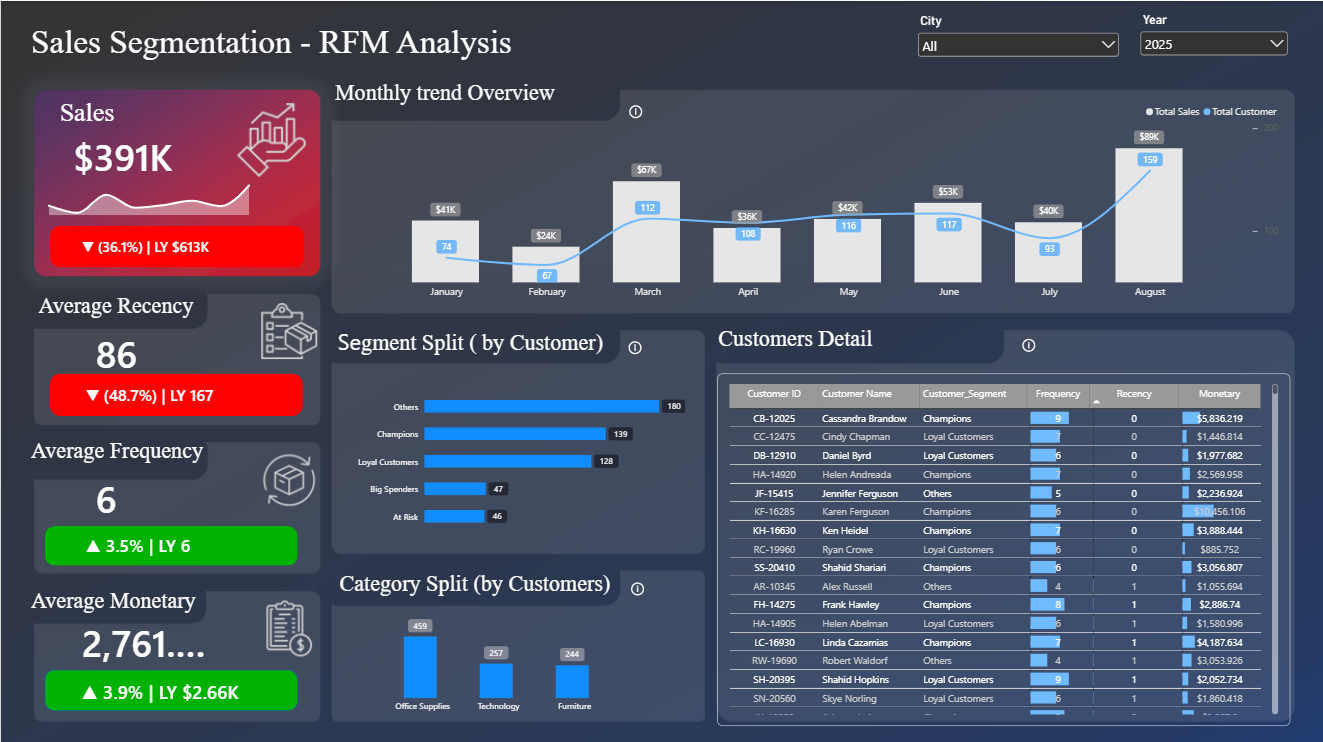

The dashboard page shown, as its layout file describes it:
{"tool":"powerbi","page":{"name":"Page 1","canvas":[1920,1080],"ordinal":0},"visuals":[{"type":"shape","box":[63.8,967.4,366.4,59.7],"z":0},{"type":"shape","box":[63.8,759.5,366.4,57.6],"z":1000},{"type":"shape","box":[70,539.3,366.4,61.7],"z":2000},{"type":"shape","box":[70,325.2,368.4,59.7],"z":3000},{"type":"textbox","box":[43.2,32.9,901.5,61.7],"z":4000},{"type":"cardVisual","fields":{"Data":["Tbl_Measure.Total Sales"]},"box":[88.5,164.7,265.5,117.3],"z":5000},{"type":"textbox","box":[84.4,140,113.2,49.4],"z":6000},{"type":"textbox","box":[53.5,422,255.2,57.6],"z":7000},{"type":"textbox","box":[43.2,631.9,265.5,61.7],"z":8000},{"type":"textbox","box":[43.2,848,255.2,63.8],"z":9000},{"type":"cardVisual","fields":{"Data":["Tbl_Measure.YoY SalesVariance"]},"box":[100.9,325.2,224.4,59.7],"z":10000},{"type":"slicer","fields":{"Values":["DateTable.Year"]},"box":[1644.6,16.5,222.3,78.2],"z":11000},{"type":"cardVisual","fields":{"Data":["Tbl_Measure.AvgRecency"]},"box":[121.4,465.2,133.8,88.5],"z":12000},{"type":"cardVisual","fields":{"Data":["Tbl_Measure.AvgFrequency"]},"box":[121.4,662.8,152.3,113.2],"z":13000},{"type":"cardVisual","fields":{"Data":["Tbl_Measure.AvgMonetary"]},"box":[100.9,897.4,212,61.7],"z":14000},{"type":"cardVisual","fields":{"Data":["Tbl_Measure.YoY RecencyVar"]},"box":[107,526.9,277.9,86.4],"z":15000},{"type":"cardVisual","fields":{"Data":["Tbl_Measure.YoY FrequencyVar"]},"box":[107,751.3,247,74.1],"z":16000},{"type":"cardVisual","fields":{"Data":["Tbl_Measure.YoY MonetaryVar"]},"box":[100.9,975.6,261.4,47.3],"z":17000},{"type":"lineChart","fields":{"Category":["DateTable.Month Number"],"Y":["Tbl_Measure.Total Sales"]},"box":[43.2,236.7,341.7,88.5],"z":18000},{"type":"lineStackedColumnComboChart","fields":{"Category":["DateTable.Month Name"],"Y":["Tbl_Measure.Total Sales"],"Y2":["Tbl_Measure.Total Customer"]},"box":[473.4,129.7,1393.5,321.1],"z":19000},{"type":"textbox","box":[473.4,109.1,417.8,61.7],"z":20000},{"type":"clusteredBarChart","fields":{"Category":["RFM_Calculation.Customer_Segment"],"Y":["CountNonNull(RFM_Calculation.Customer ID)"]},"box":[494,539.3,512.5,249.1],"z":21000},{"type":"textbox","box":[463.1,465.2,428.1,61.7],"z":22000},{"type":"clusteredColumnChart","fields":{"Category":["Superstore 2025.Category"],"Y":["Count(Superstore 2025.Customer ID)"]},"box":[522.8,868.6,395.2,181.1],"z":23000},{"type":"textbox","box":[473.4,825.4,430.2,47.3],"z":24000},{"type":"tableEx","fields":{"Values":["RFM_Calculation.Customer ID","RFM_Calculation.Customer Name","RFM_Calculation.Customer_Segment","RFM_Calculation.Frequency","RFM_Calculation.Recency","RFM_Calculation.Monetary"]},"box":[1037.4,539.3,829.5,510.5],"z":25000},{"type":"textbox","box":[1023,471.4,325.2,55.6],"z":26000},{"type":"actionButton","box":[885.1,129.7,67.9,59.7],"z":27000},{"type":"actionButton","box":[891.3,475.5,55.6,51.5],"z":28000},{"type":"actionButton","box":[893.3,825.4,55.6,51.5],"z":29000},{"type":"actionButton","box":[1453.2,467.2,70,63.8],"z":30000},{"type":"slicer","fields":{"Values":["Superstore 2025.City"]},"box":[1323.5,18.5,300.5,92.6],"z":30001}]}

Visuals, with their boxes in screenshot pixels (x1, y1, x2, y2), scaled from the page's 1920x1080 canvas onto the 1323x742 screenshot:
shape: box=[44, 665, 296, 706]
shape: box=[44, 522, 296, 561]
shape: box=[48, 371, 301, 413]
shape: box=[48, 223, 302, 264]
textbox: box=[30, 23, 651, 65]
cardVisual - Tbl_Measure.Total Sales: box=[61, 113, 244, 194]
textbox: box=[58, 96, 136, 130]
textbox: box=[37, 290, 213, 330]
textbox: box=[30, 434, 213, 477]
textbox: box=[30, 583, 206, 626]
cardVisual - Tbl_Measure.YoY SalesVariance: box=[70, 223, 224, 264]
slicer - DateTable.Year: box=[1133, 11, 1286, 65]
cardVisual - Tbl_Measure.AvgRecency: box=[84, 320, 176, 380]
cardVisual - Tbl_Measure.AvgFrequency: box=[84, 455, 189, 533]
cardVisual - Tbl_Measure.AvgMonetary: box=[70, 617, 216, 659]
cardVisual - Tbl_Measure.YoY RecencyVar: box=[74, 362, 265, 421]
cardVisual - Tbl_Measure.YoY FrequencyVar: box=[74, 516, 244, 567]
cardVisual - Tbl_Measure.YoY MonetaryVar: box=[70, 670, 250, 703]
lineChart - DateTable.Month Number x Tbl_Measure.Total Sales: box=[30, 163, 265, 223]
lineStackedColumnComboChart - DateTable.Month Name x Tbl_Measure.Total Sales: box=[326, 89, 1286, 310]
textbox: box=[326, 75, 614, 117]
clusteredBarChart - RFM_Calculation.Customer_Segment x CountNonNull(RFM_Calculation.Customer ID): box=[340, 371, 694, 542]
textbox: box=[319, 320, 614, 362]
clusteredColumnChart - Superstore 2025.Category x Count(Superstore 2025.Customer ID): box=[360, 597, 633, 721]
textbox: box=[326, 567, 623, 600]
tableEx - RFM_Calculation.Customer ID x RFM_Calculation.Customer Name: box=[715, 371, 1286, 721]
textbox: box=[705, 324, 929, 362]
actionButton: box=[610, 89, 657, 130]
actionButton: box=[614, 327, 652, 362]
actionButton: box=[616, 567, 654, 602]
actionButton: box=[1001, 321, 1050, 365]
slicer - Superstore 2025.City: box=[912, 13, 1119, 76]
